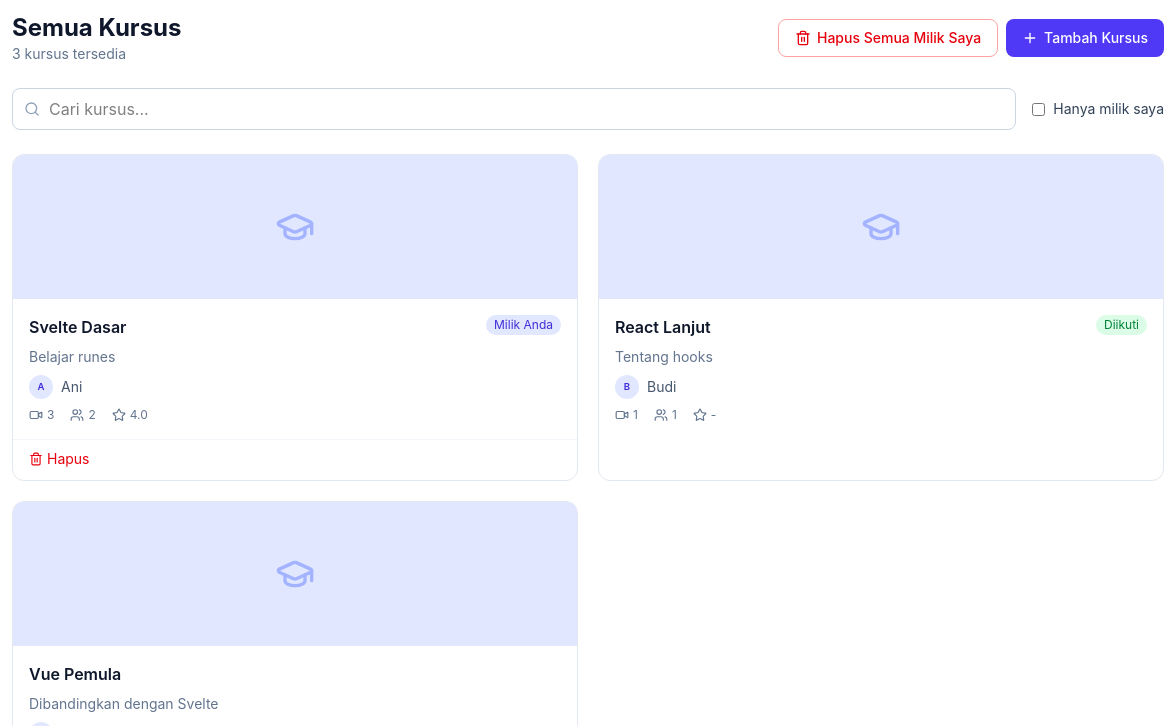
Test: pencarian dan filter › menyaring kursus milik sendiri
Expected: the heading "Svelte Dasar" is shown, 29,315 -> 126,339
Click the checkbox labelled "Hanya milik saya" at (1039, 109), box 1032,102 -> 1045,116
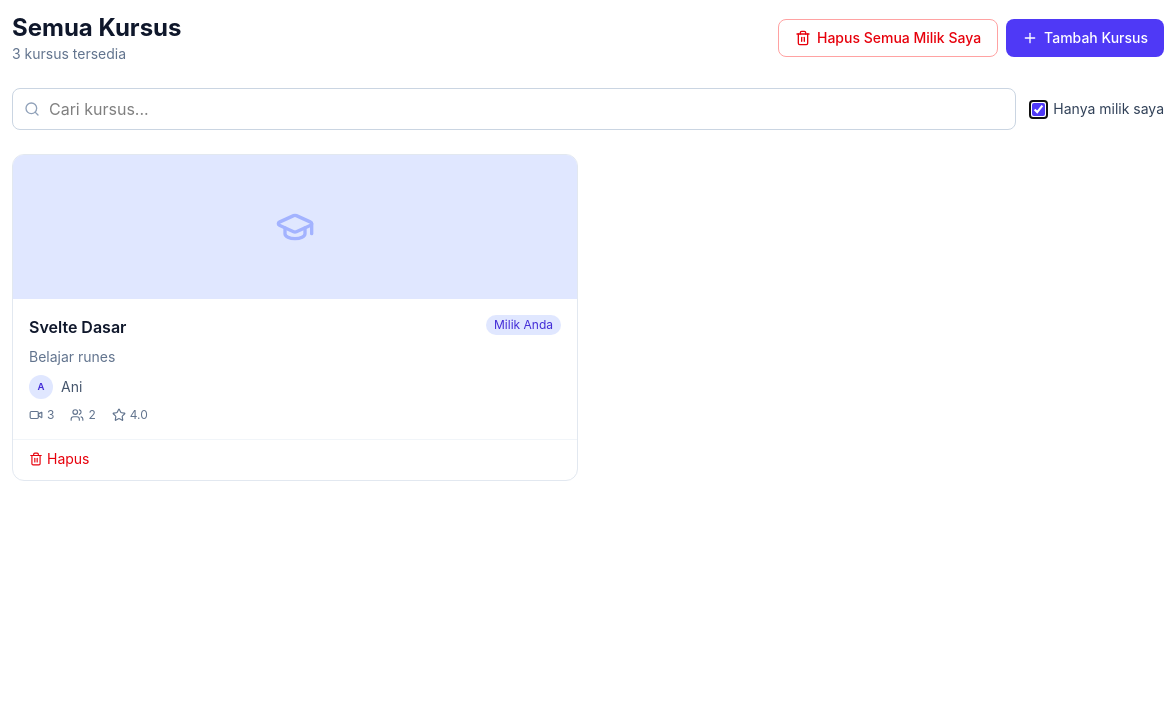
Expected: the heading "Svelte Dasar" is shown, 29,315 -> 126,339
Expected: the link "React Lanjut" is gone
Expected: the link "Vue Pemula" is gone
